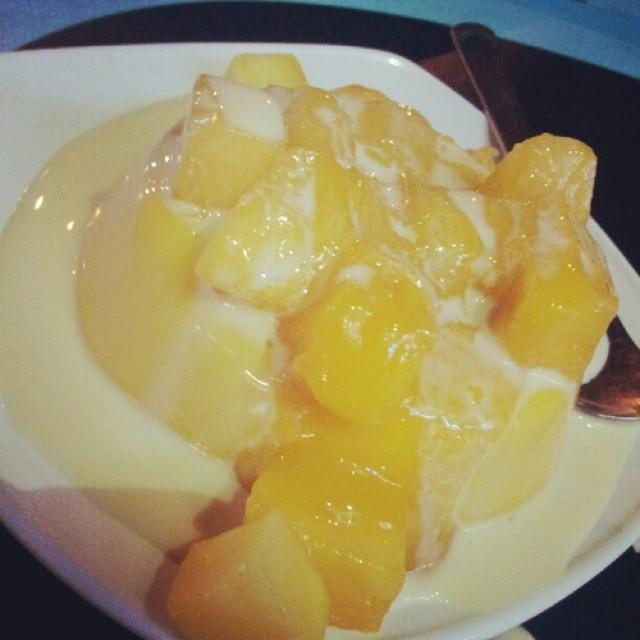蛋糕甜品: (41, 45, 621, 591)
